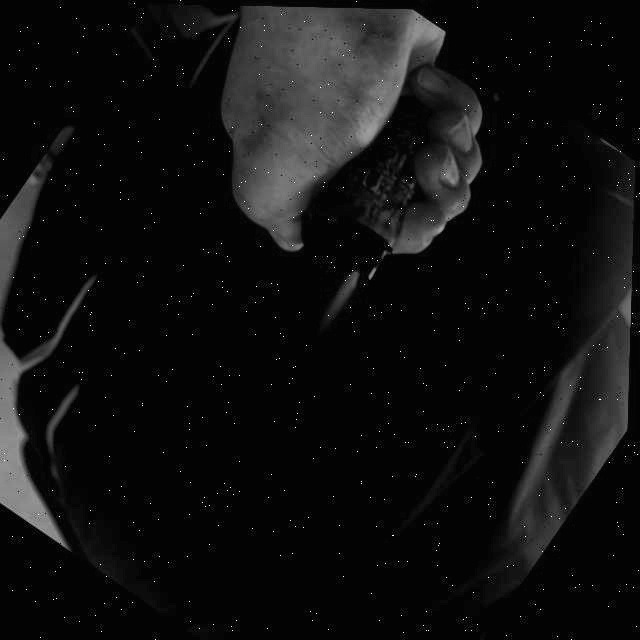Fire: (301, 263, 371, 346)
